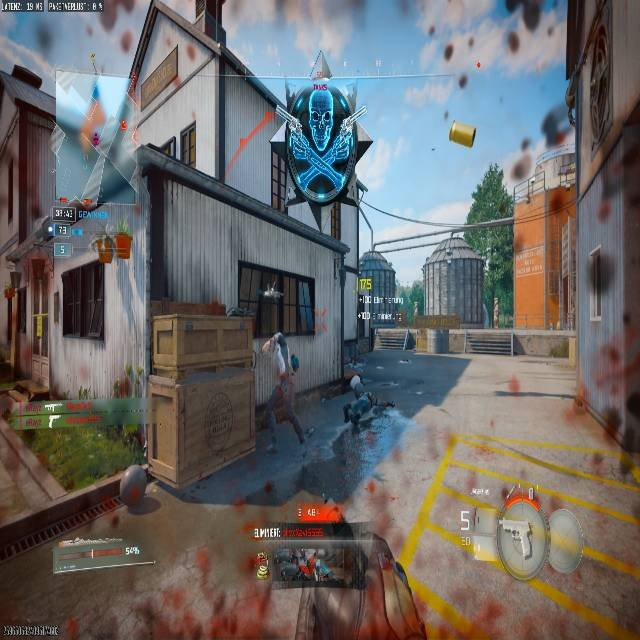head: (349, 375, 364, 397)
player: (342, 373, 390, 438)
